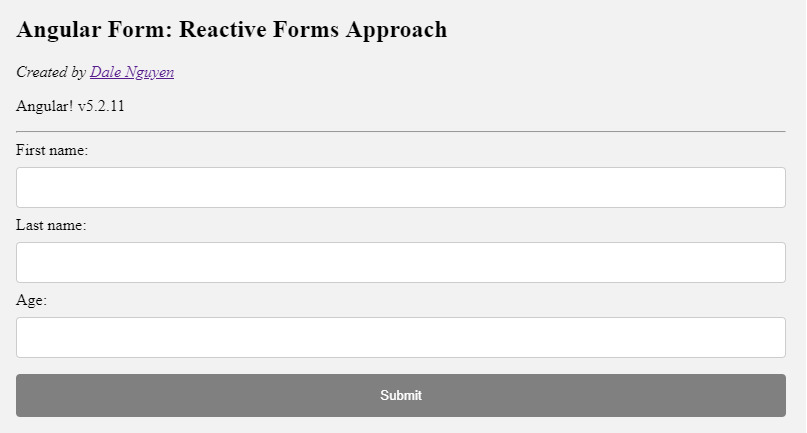_form_: (1, 1, 800, 433)
button: (14, 372, 791, 419)
field: (15, 239, 789, 286), (13, 165, 790, 210), (13, 315, 788, 360)
field_with_label: (8, 141, 793, 214), (10, 215, 794, 288), (10, 294, 791, 362)
